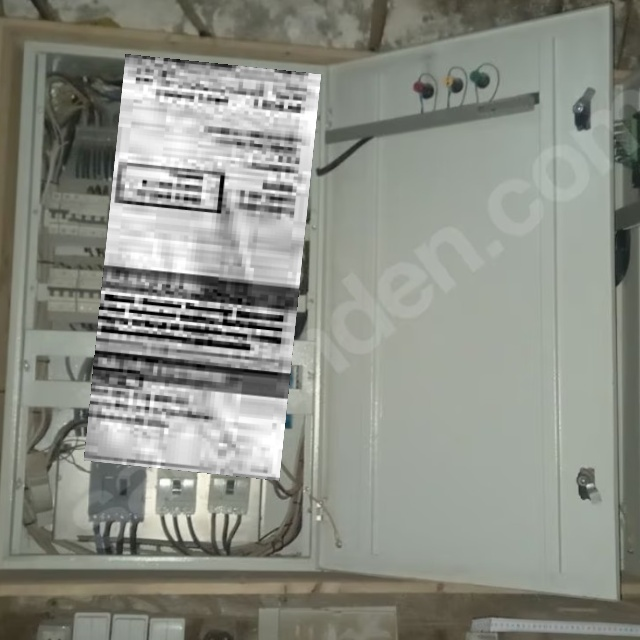electricity-bill: (84, 53, 320, 480)
